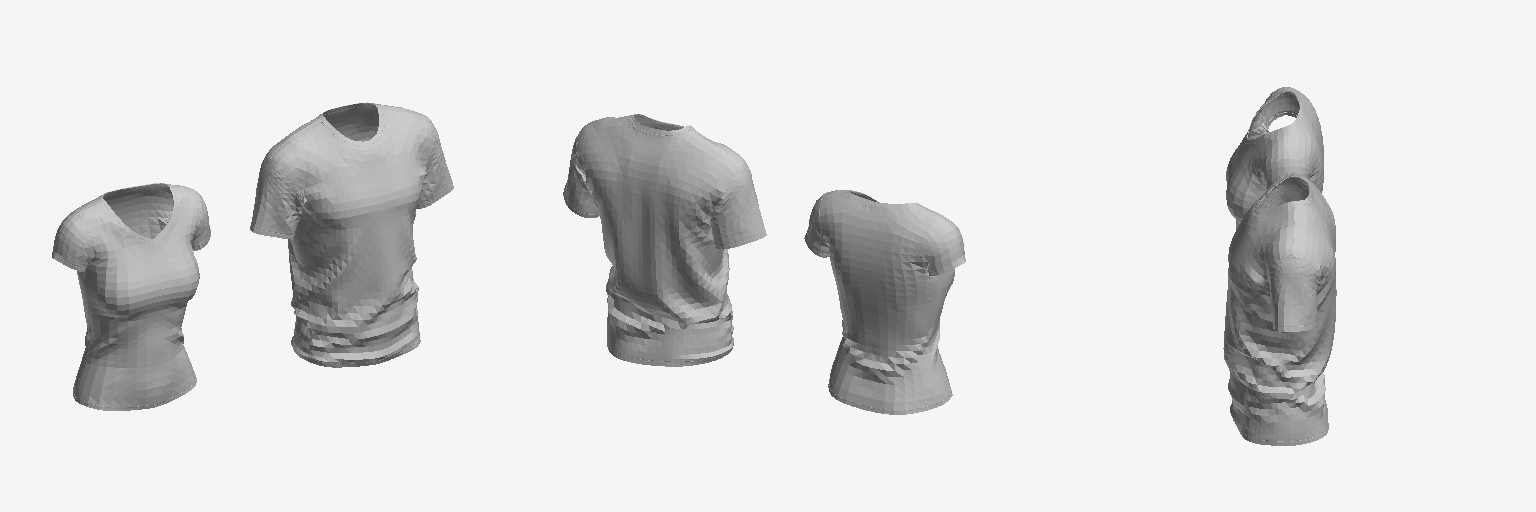
File: shirt.obj
The picture shows the model from 3 angles: view 1: azimuth 30°, elevation 25°; view 2: azimuth 150°, elevation 25°; view 3: azimuth 270°, elevation 25°; orthographic projection.
Parts seen in each view (by area): view 1: shirt, imageSect_shirt.001; view 2: shirt; view 3: shirt, imageSect_shirt.001.
Part boxes in pixels (x1,y1,x2,y2): shirt: (52, 102, 453, 410); imageSect_shirt.001: (310, 177, 418, 289); shirt: (563, 114, 965, 414); shirt: (1223, 87, 1336, 445); imageSect_shirt.001: (1224, 244, 1264, 356).
Bounding box in the file's own units: 110 × 61.34 × 26.98.